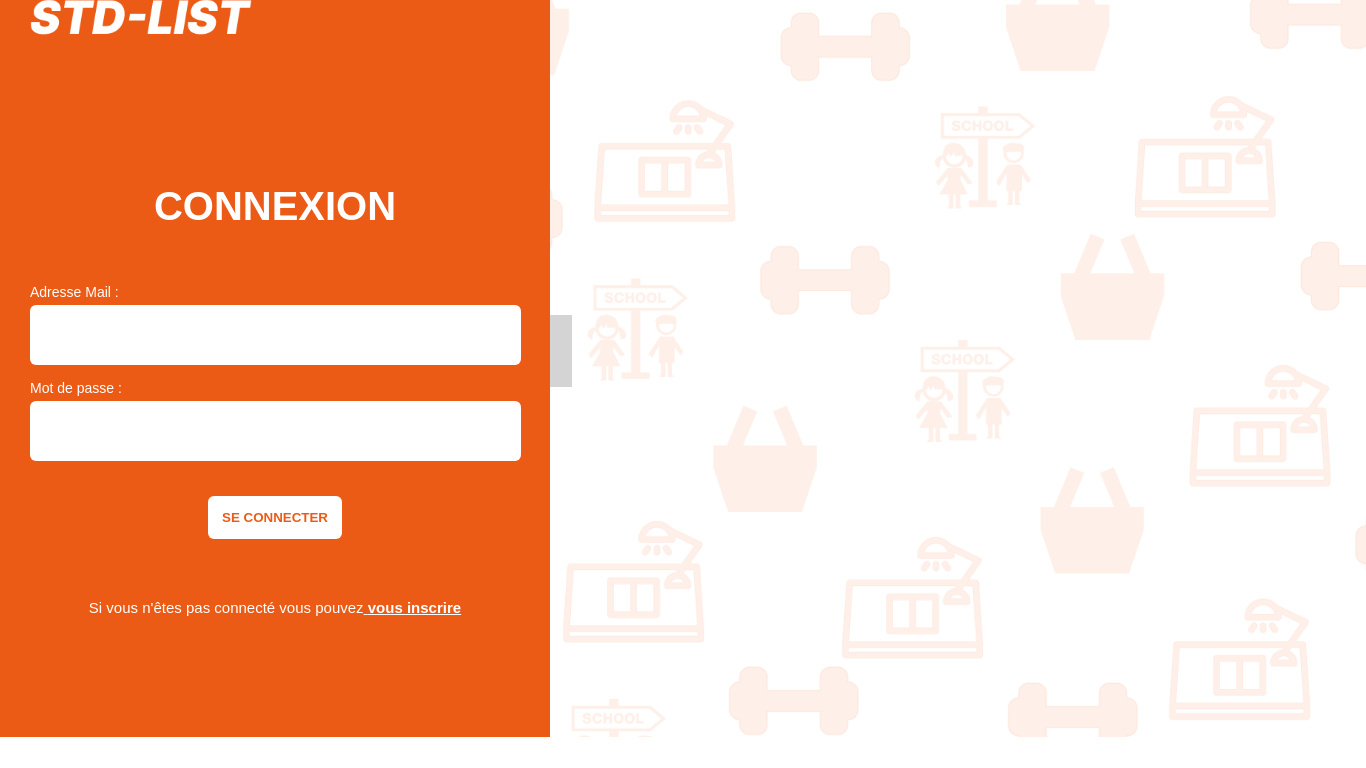
it: Inscription utilisateur › inscrit un nouvel utilisateur
(page scrolled)
Expected: the heading "CONNEXION" is shown, [154,184,396,228]
Click the text with test id "go-register" at (366, 607), box [364,599,462,616]
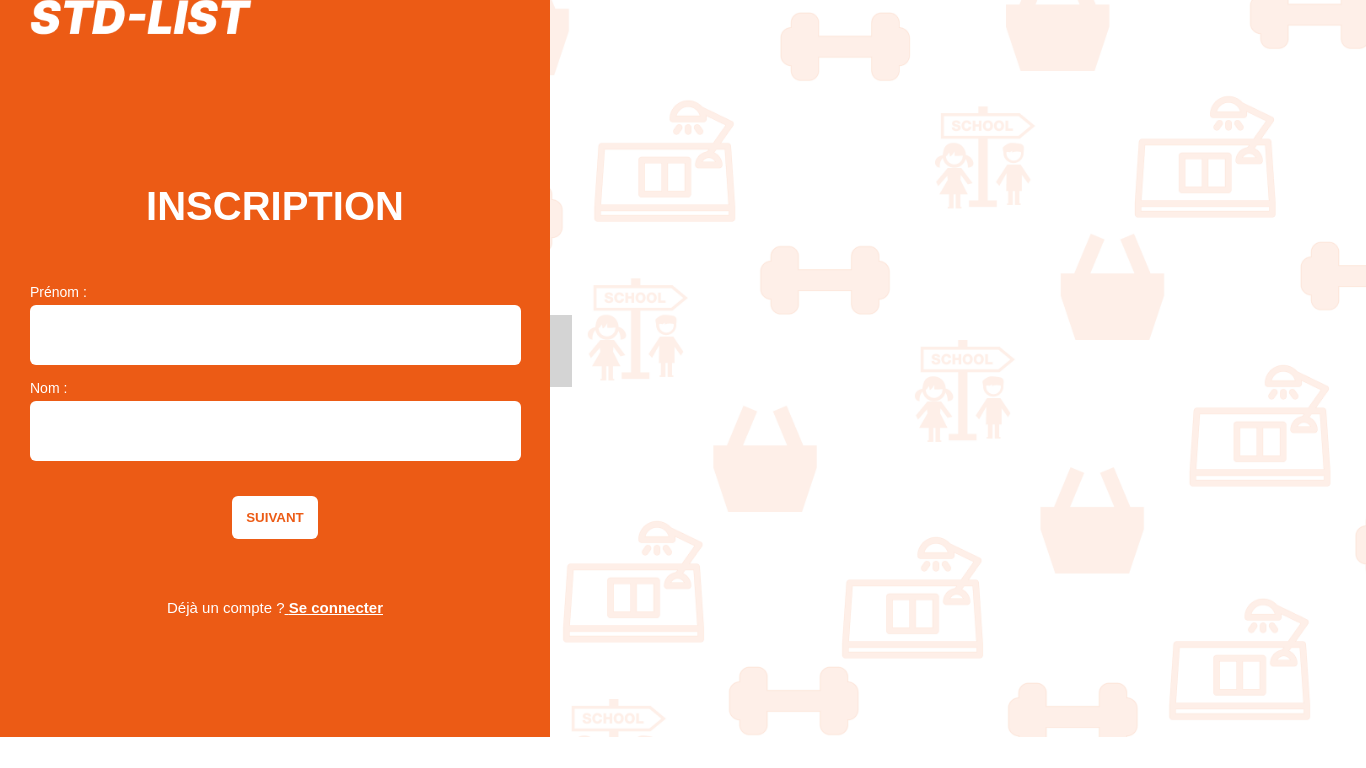
Type "Jean" into the field with test id "register-prenom" at (276, 335), box [30,305,521,365]
Type "Dupont" into the field with test id "register-nom" at (276, 431), box [30,401,521,461]
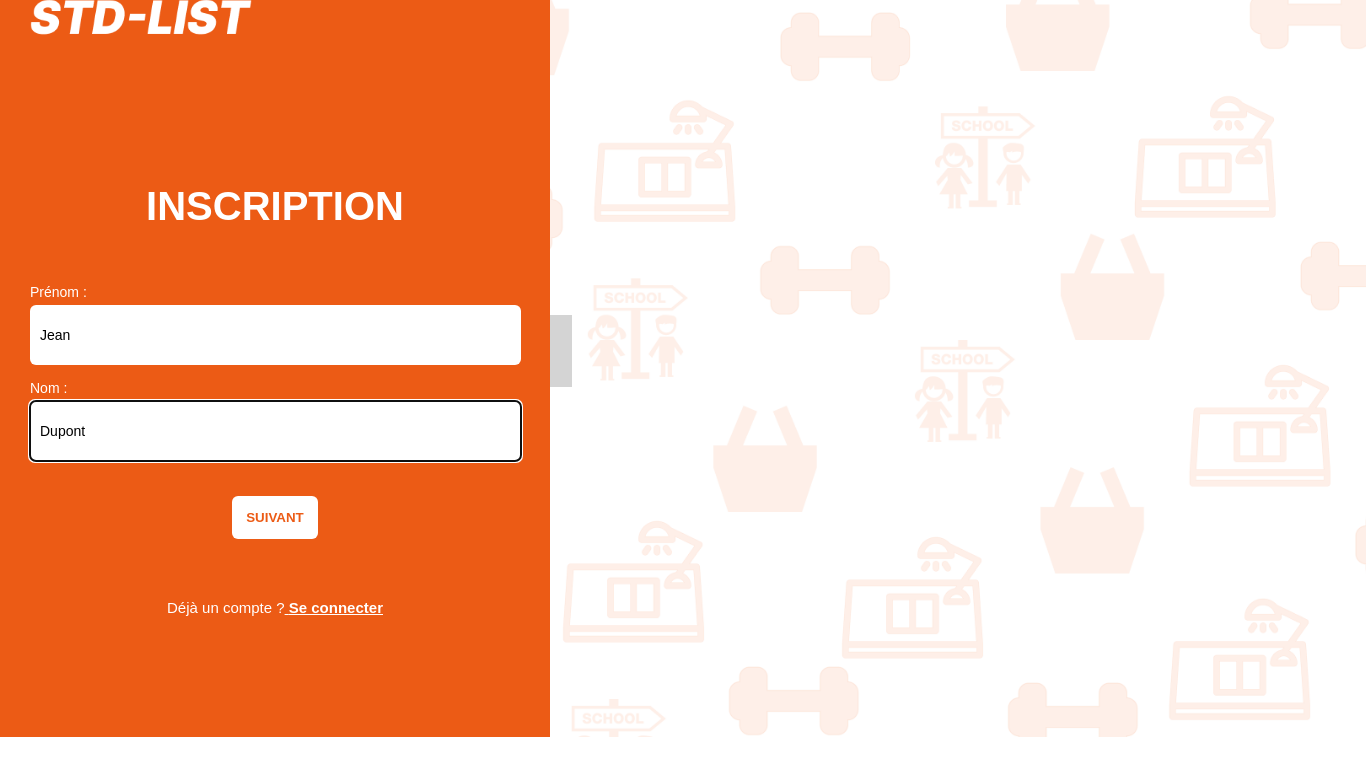
Click the button with test id "register-next" at (275, 518), box [232,496,318,539]
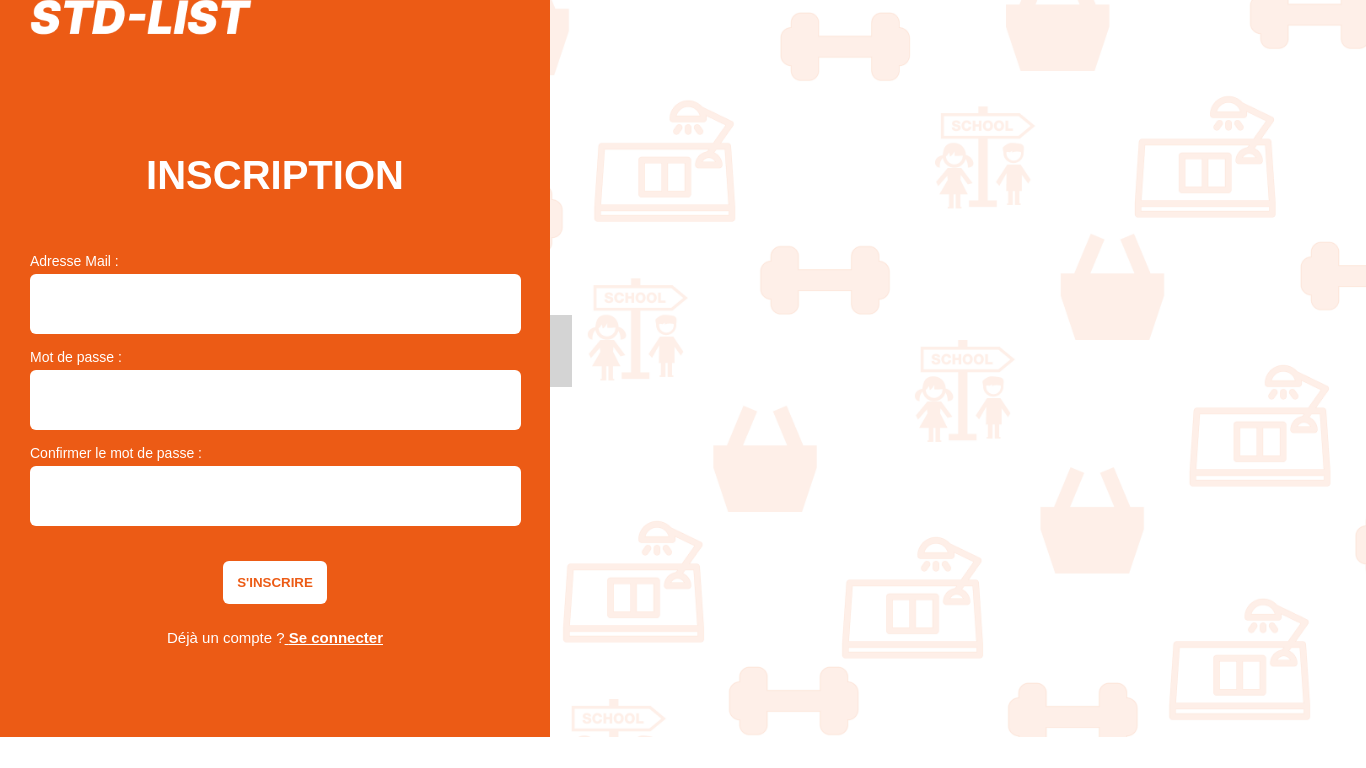
Type "test@test.com" into the field with test id "register-email" at (276, 304), box [30,274,521,334]
Type "Password123!" into the password field with test id "register-password" at (276, 400), box [30,370,521,430]
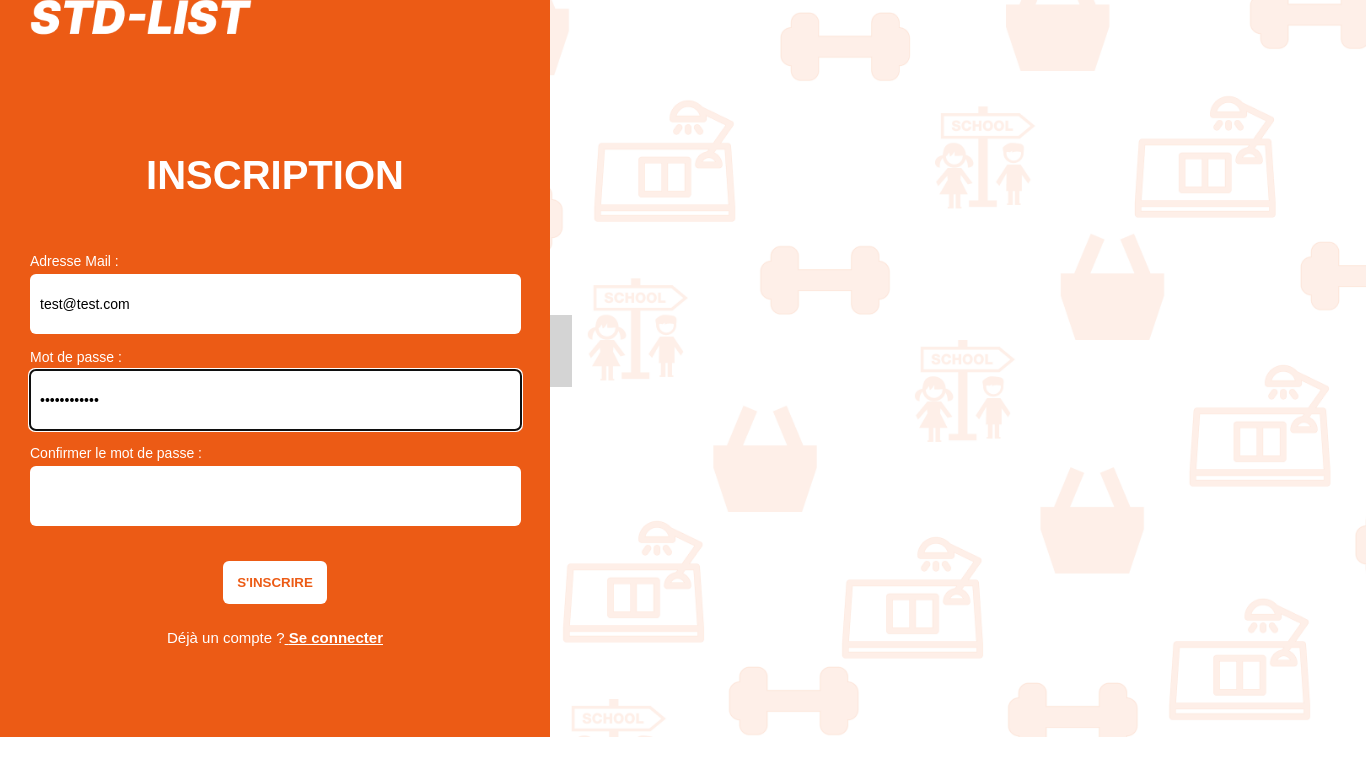
Type "Password123!" into the password field with test id "register-confirm-password" at (276, 496), box [30,466,521,526]
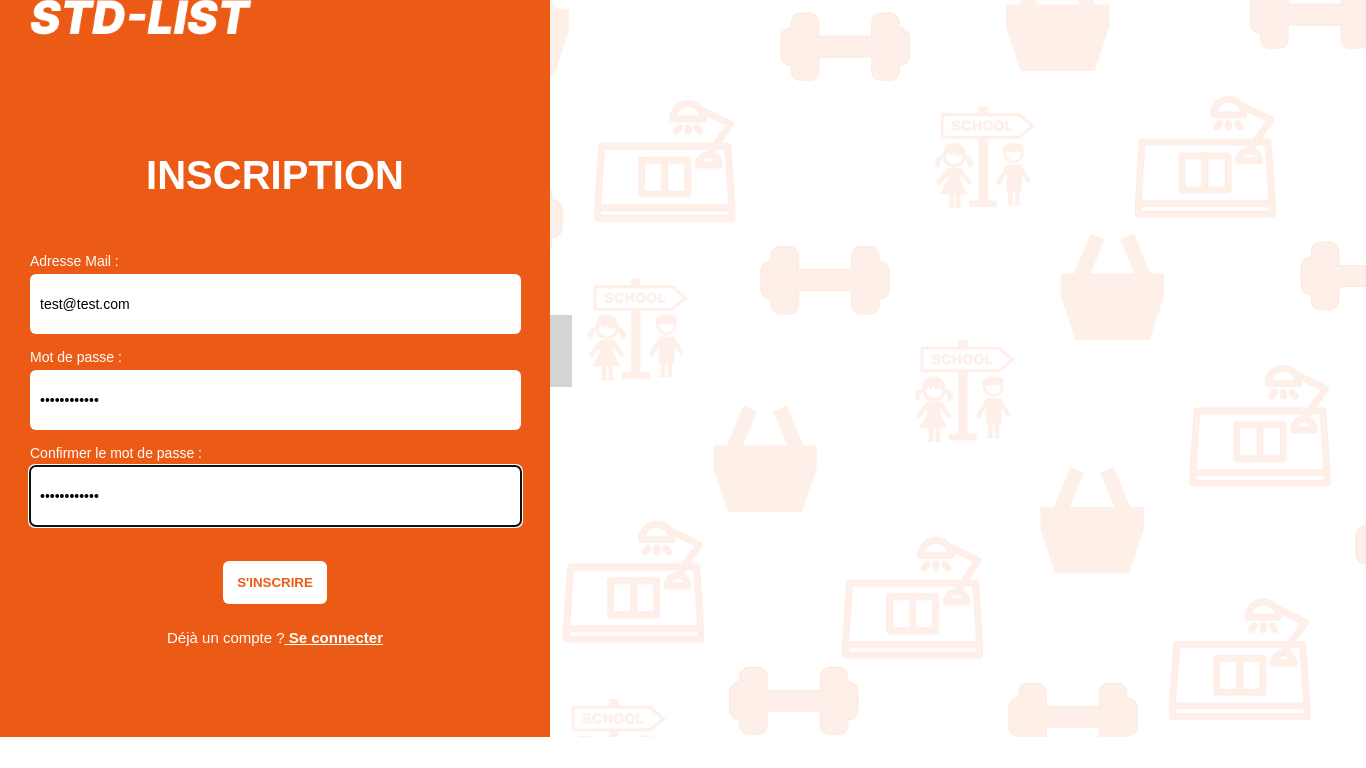
Click the button with test id "register-submit" at (275, 583), box [223,561,327,604]
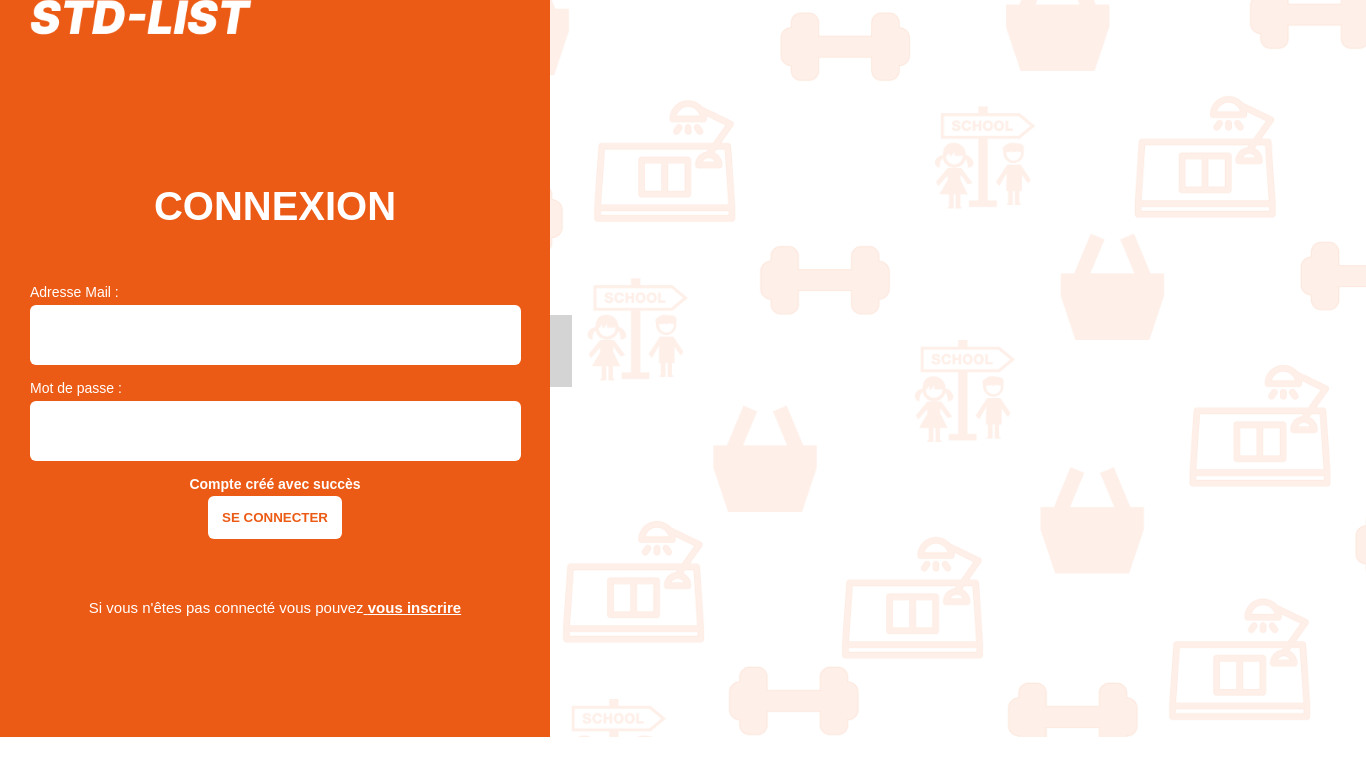
Expected: the text "Compte créé avec succès" is shown, [189,476,361,492]
